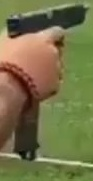pistol: (5, 1, 93, 166)
